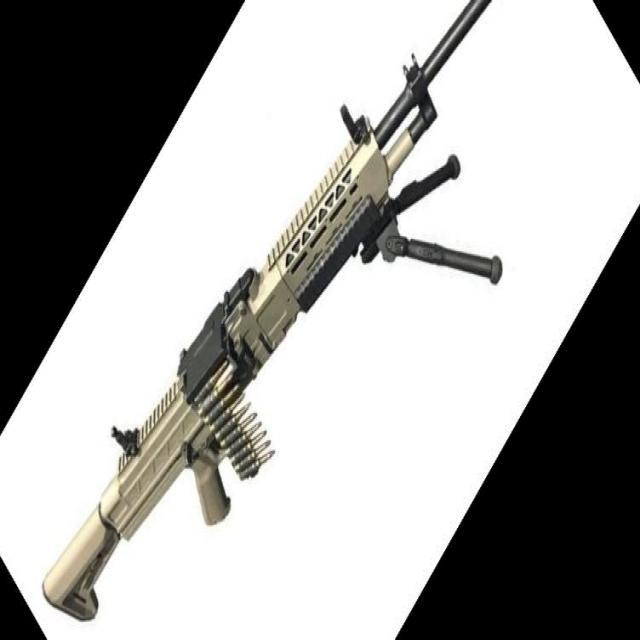weapon: (41, 0, 504, 623)
